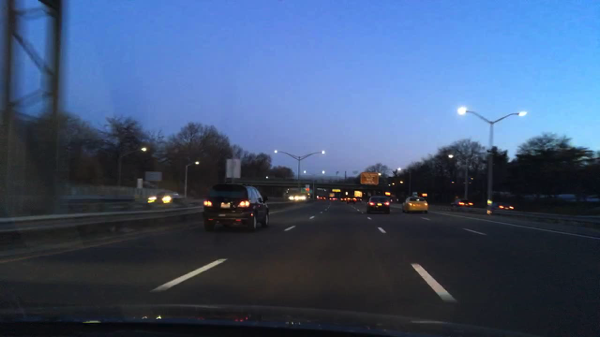car: (201, 182, 271, 234), (144, 189, 189, 211), (400, 195, 430, 214), (364, 194, 391, 214), (448, 197, 475, 209), (490, 201, 513, 212), (293, 192, 309, 201), (344, 195, 357, 205), (328, 196, 337, 203), (318, 195, 326, 202), (356, 195, 362, 203), (339, 197, 347, 202)
traffic sign: (224, 157, 241, 179), (359, 172, 379, 185), (145, 171, 163, 182), (303, 184, 312, 193), (354, 191, 362, 197), (332, 188, 341, 193), (304, 183, 309, 191), (420, 193, 428, 197), (385, 191, 391, 196), (411, 191, 417, 196)
